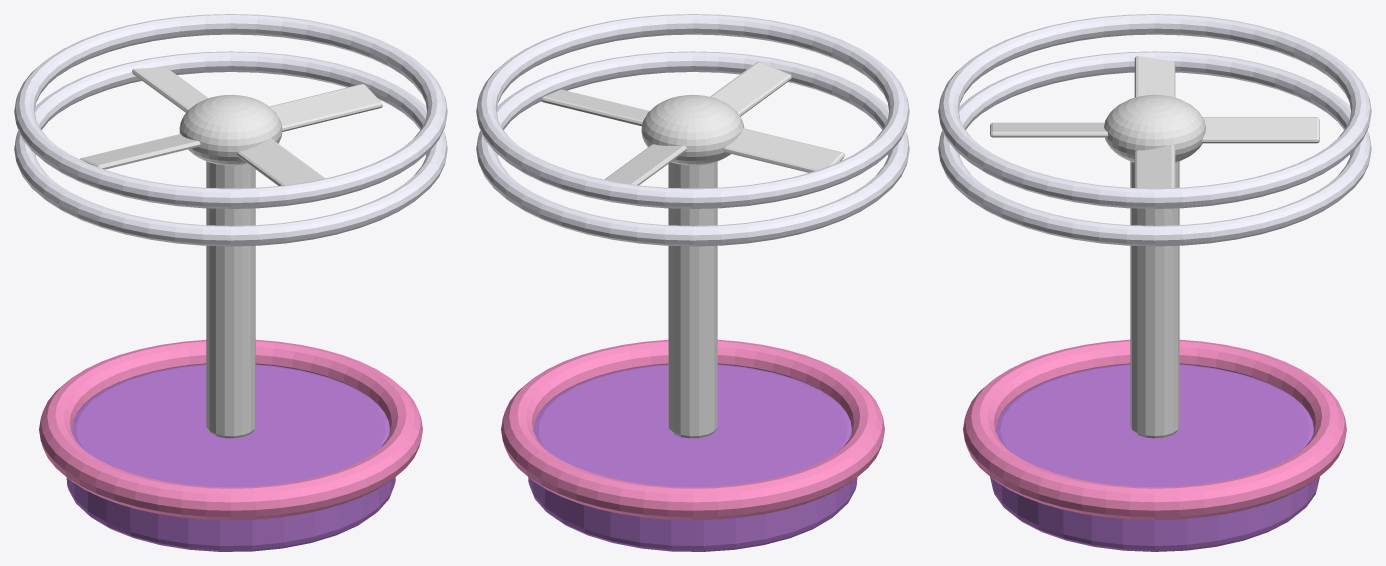
The model's file is FANAnimated.fbx.
The picture shows the model from 3 angles, left to right: view 1: azimuth 30°, elevation 25°; view 2: azimuth 150°, elevation 25°; view 3: azimuth 270°, elevation 25°; orthographic projection.
Parts seen in each view (by area): view 1: Base, BaseRim, CageBack, CageFront, FanMotor, Pole; view 2: Base, BaseRim, CageBack, CageFront, FanMotor, Pole; view 3: Base, BaseRim, CageBack, CageFront, FanMotor, Pole.
Boxes of the visible parts, <box> form: Base: <box>66,364,395,551</box>; BaseRim: <box>39,339,422,520</box>; CageBack: <box>14,14,447,208</box>; CageFront: <box>14,51,447,246</box>; FanMotor: <box>80,67,382,185</box>; Pole: <box>206,161,255,438</box>; Base: <box>528,364,857,551</box>; BaseRim: <box>501,339,884,520</box>; CageBack: <box>476,14,909,208</box>; CageFront: <box>476,51,909,246</box>; FanMotor: <box>541,61,844,185</box>; Pole: <box>668,161,717,438</box>; Base: <box>990,364,1319,551</box>; BaseRim: <box>963,339,1346,519</box>; CageBack: <box>938,14,1371,208</box>; CageFront: <box>938,51,1371,246</box>; FanMotor: <box>990,56,1319,188</box>; Pole: <box>1130,161,1179,438</box>.
Bounding box in the file's own units: 210 × 205 × 210.
